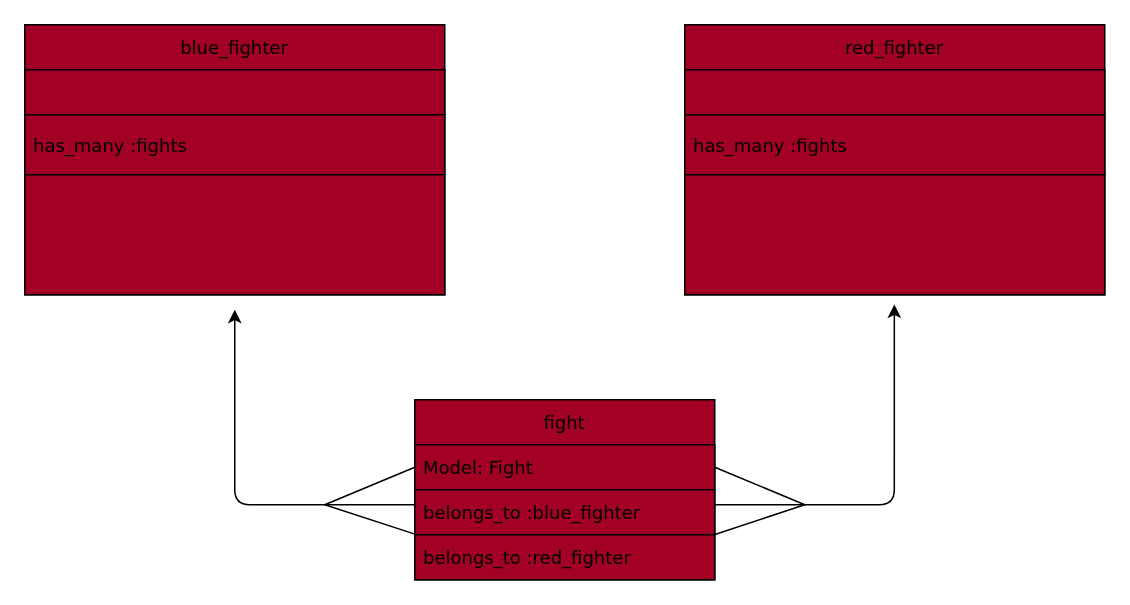
The diagram is 1130 pixels wide and 605 high, and some of its shapes have lost their labels. The shapes that lost their labels are listed below. From the top down, each one's centre as x and y in pixels, then its label:
point (234, 91): Model: BlueFighter
point (894, 91): Model: RedFighter
point (234, 234): has_many :red_fighters, through: :fights
point (894, 234): has_many :blue_fighters, through: :fights
